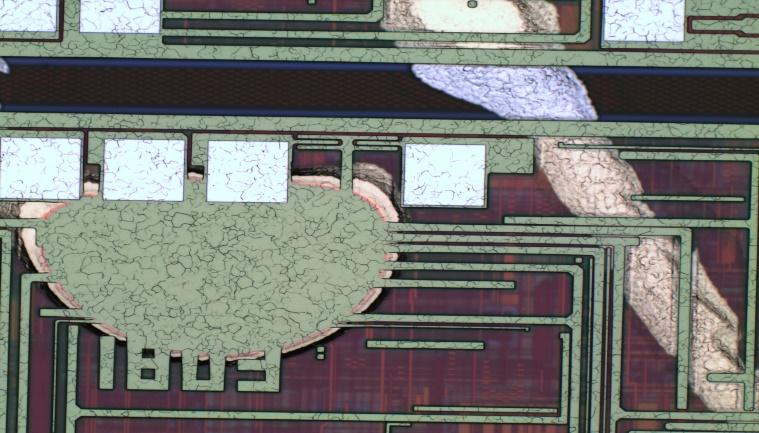BLOCK ETCH: (18, 1, 759, 433)
